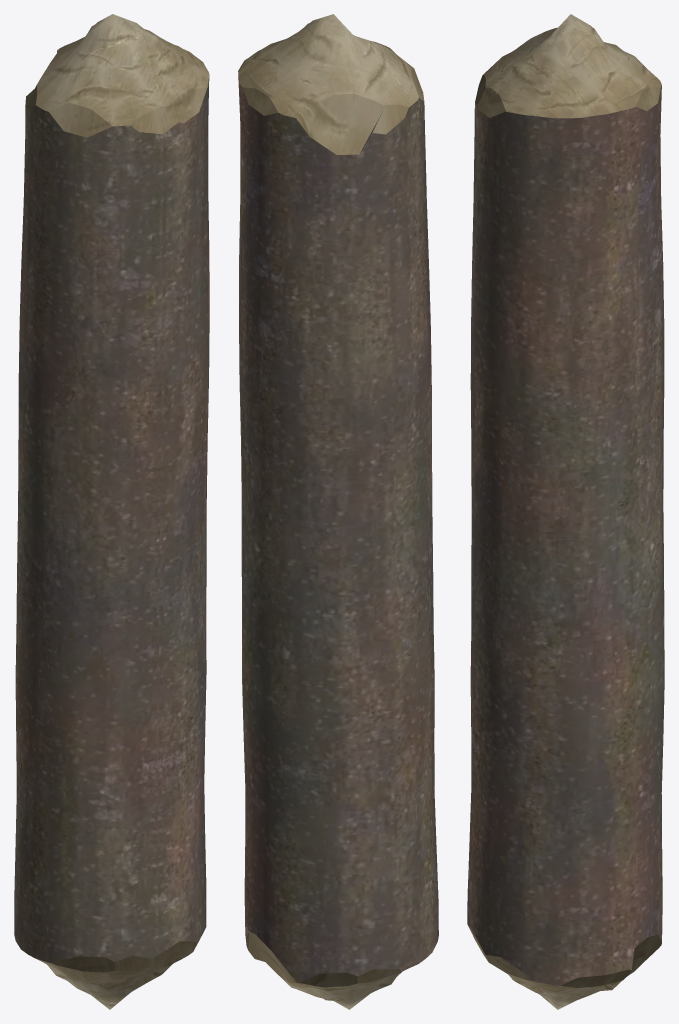
3 views of the same model, side by side, from view 1: azimuth 30°, elevation 25°; view 2: azimuth 150°, elevation 25°; view 3: azimuth 270°, elevation 25° (orthographic).
Parts seen in each view (by area): view 1: SM_BM_Ash_Tree_03_quarter_03_LOD0; view 2: SM_BM_Ash_Tree_03_quarter_03_LOD0; view 3: SM_BM_Ash_Tree_03_quarter_03_LOD0.
Boxes of the visible parts, x1,y1,x2,y2 form: SM_BM_Ash_Tree_03_quarter_03_LOD0: [14, 14, 209, 1009]; SM_BM_Ash_Tree_03_quarter_03_LOD0: [238, 14, 438, 1009]; SM_BM_Ash_Tree_03_quarter_03_LOD0: [467, 14, 664, 1009].
Bounding box in the file's own units: 0.4731 × 2.62 × 0.4681.
1 material, 1 textured.
